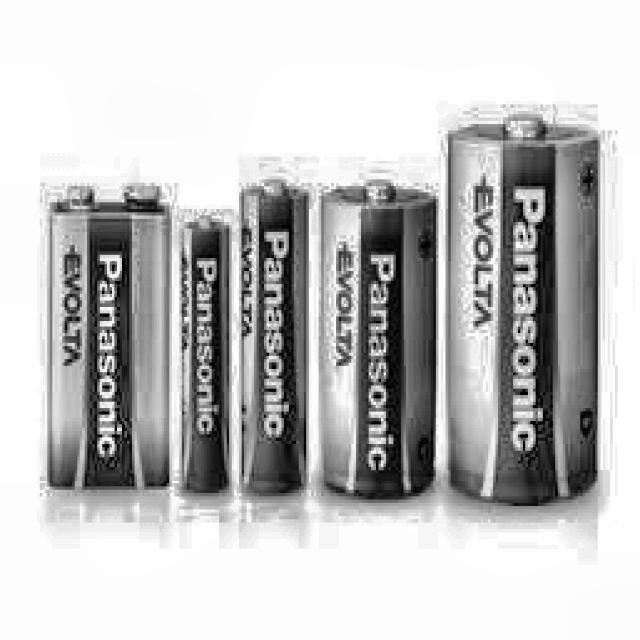Battery: (451, 117, 600, 503), (321, 183, 436, 496), (54, 188, 170, 494), (242, 180, 308, 500), (182, 219, 229, 493)
